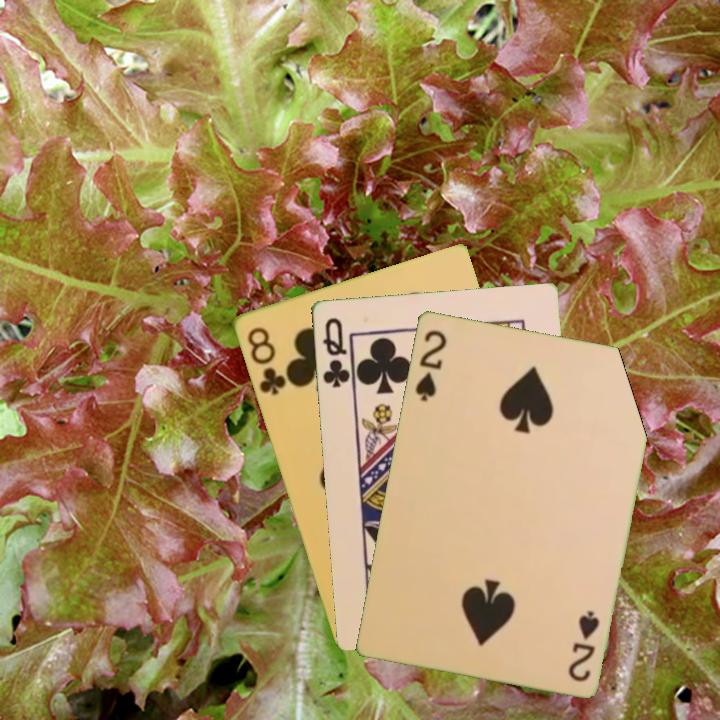2s: (411, 326, 449, 404), (564, 607, 602, 684)
8c: (243, 323, 289, 398)
Qc: (319, 314, 355, 392)
